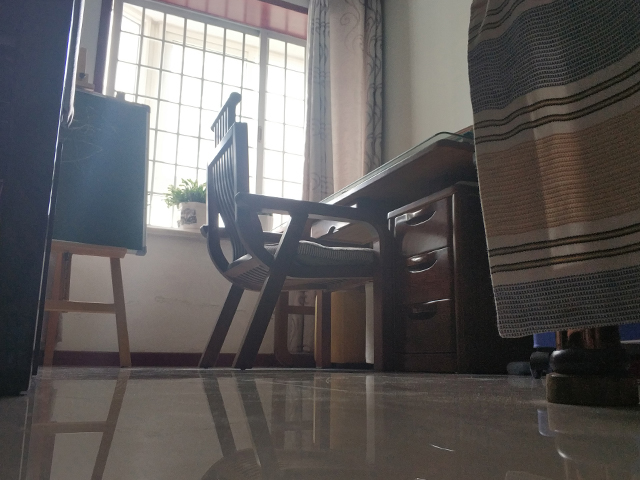cabinet: (291, 129, 535, 376)
curtain: (300, 1, 384, 371)
stool: (198, 91, 394, 372)
